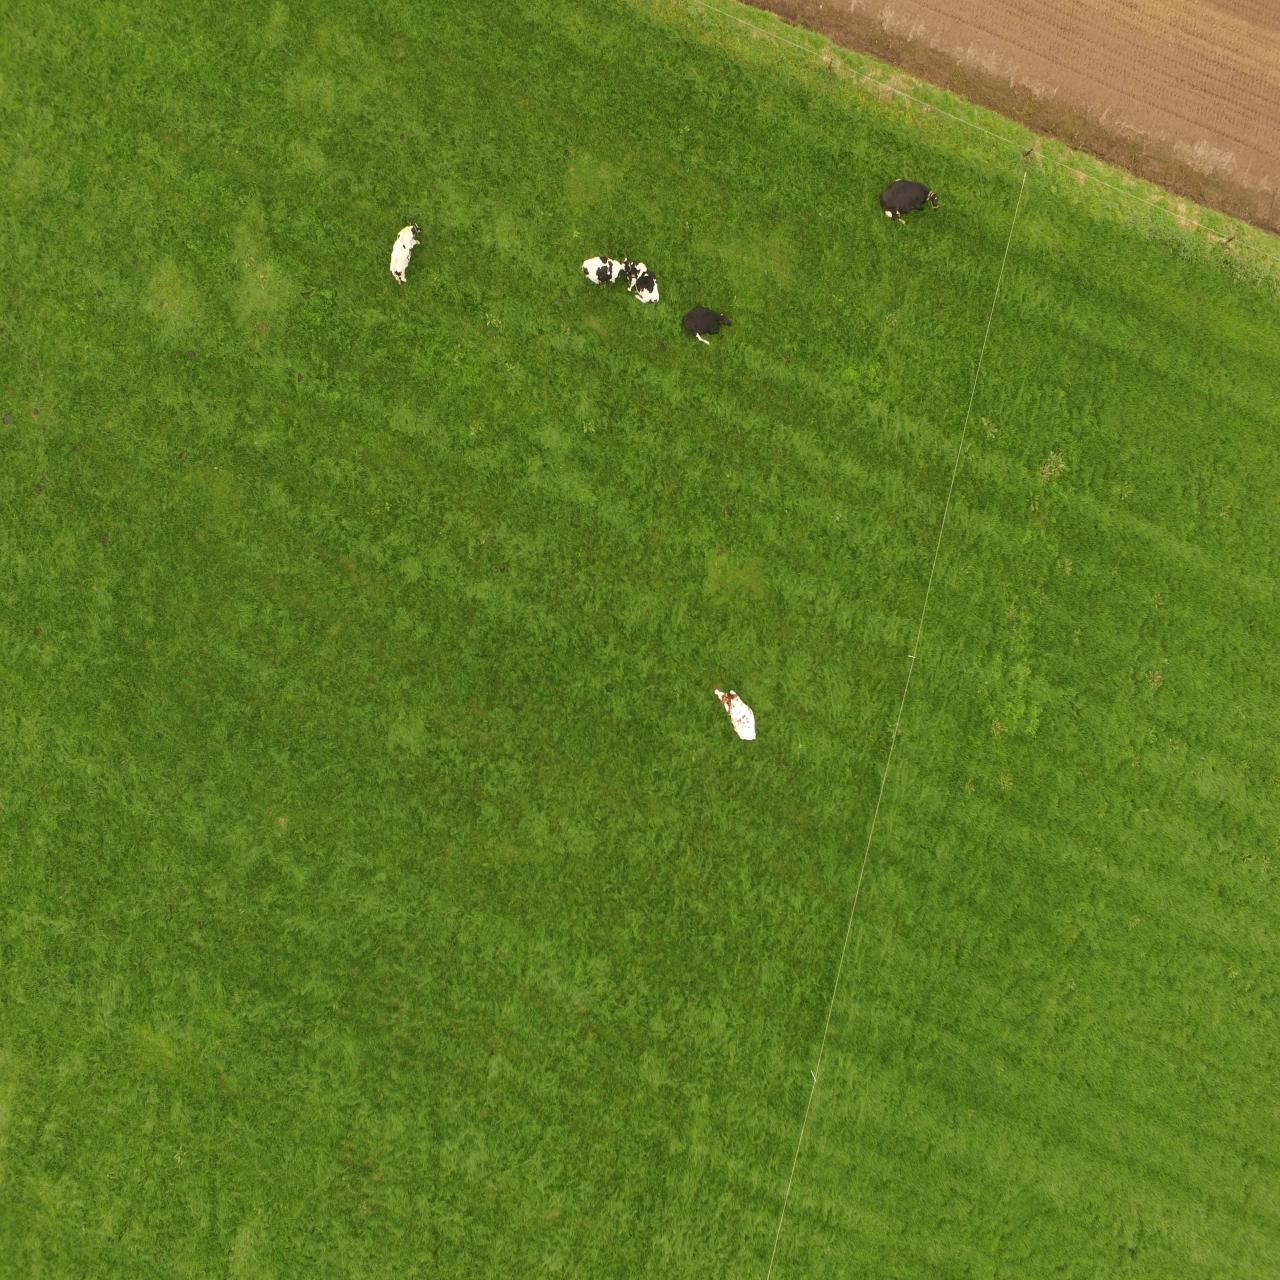cow: (878, 175, 942, 231), (710, 688, 760, 747), (386, 220, 423, 290), (683, 308, 737, 347), (628, 257, 666, 305), (580, 253, 625, 286)
